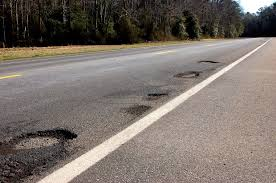pothole: (1, 126, 81, 183), (123, 90, 169, 118), (175, 70, 203, 80), (197, 58, 221, 66)
